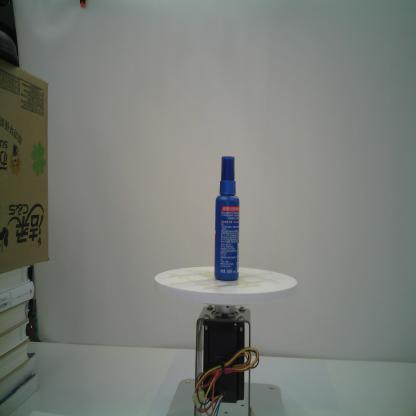Personal Hygiene: (213, 154, 241, 283)
